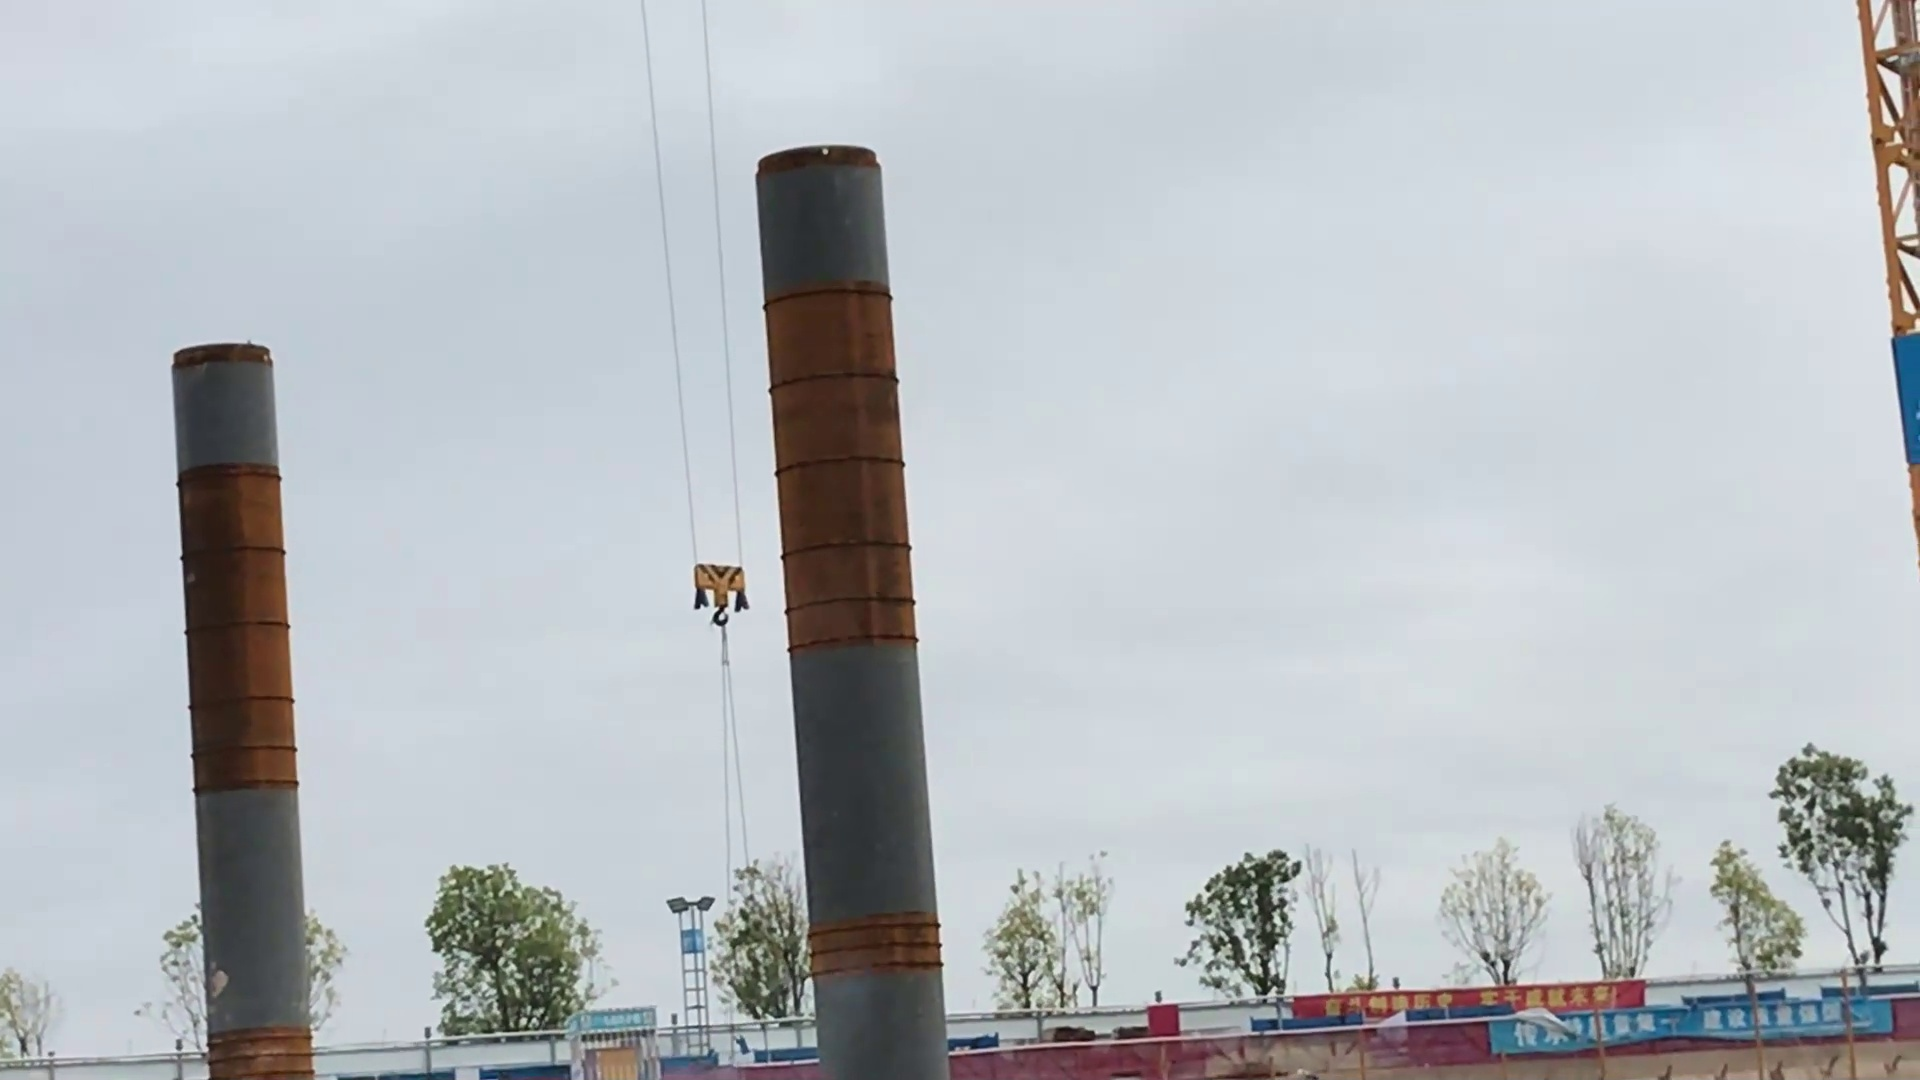hook: (688, 560, 753, 630)
slogan: (1491, 1000, 1894, 1056), (1294, 978, 1644, 1022)
